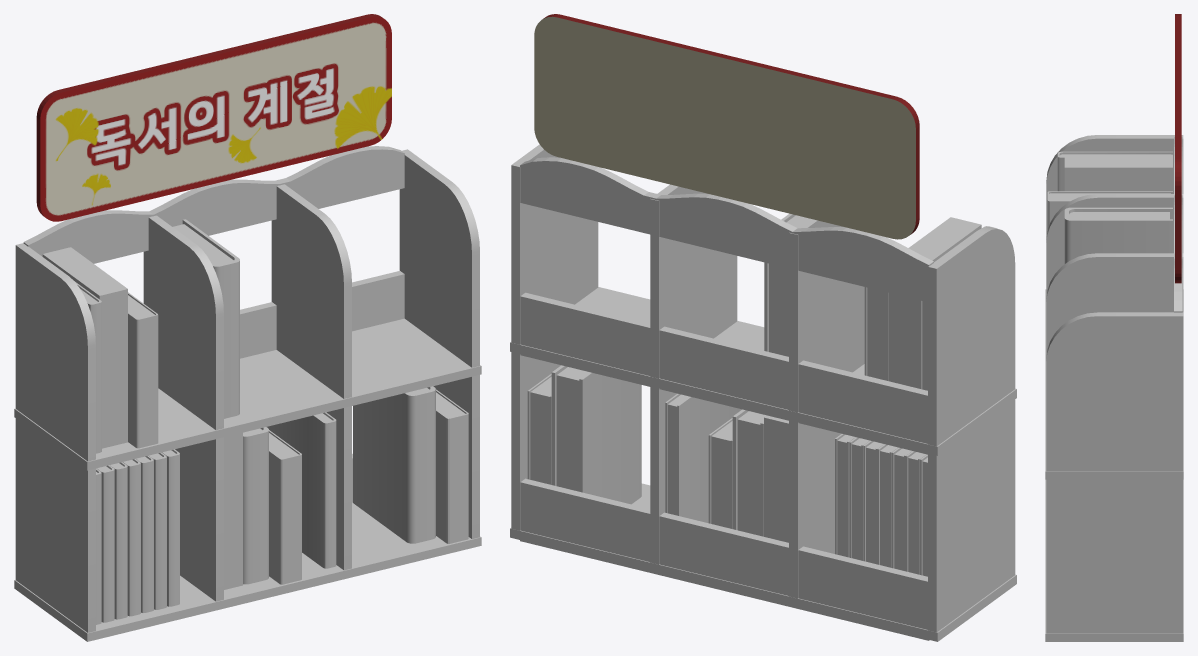
The model's file is Prefab_Bookcase_Autumn.fbx.
The picture shows the model from 3 angles, left to right: view 1: azimuth 30°, elevation 25°; view 2: azimuth 150°, elevation 25°; view 3: azimuth 270°, elevation 25°; orthographic projection. The views are drawn at different scales.
Parts seen in each view (by area): view 1: Bookcase_Autumn; view 2: Bookcase_Autumn; view 3: Bookcase_Autumn.
Boxes of the visible parts, bbox=[...] form: Bookcase_Autumn: bbox=[14, 14, 481, 641]; Bookcase_Autumn: bbox=[510, 14, 1016, 641]; Bookcase_Autumn: bbox=[1045, 14, 1183, 641].
Size of the model in its own units: 73.28 by 87.13 by 23.48.
